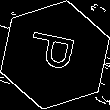P_E: (26, 31, 84, 79)
